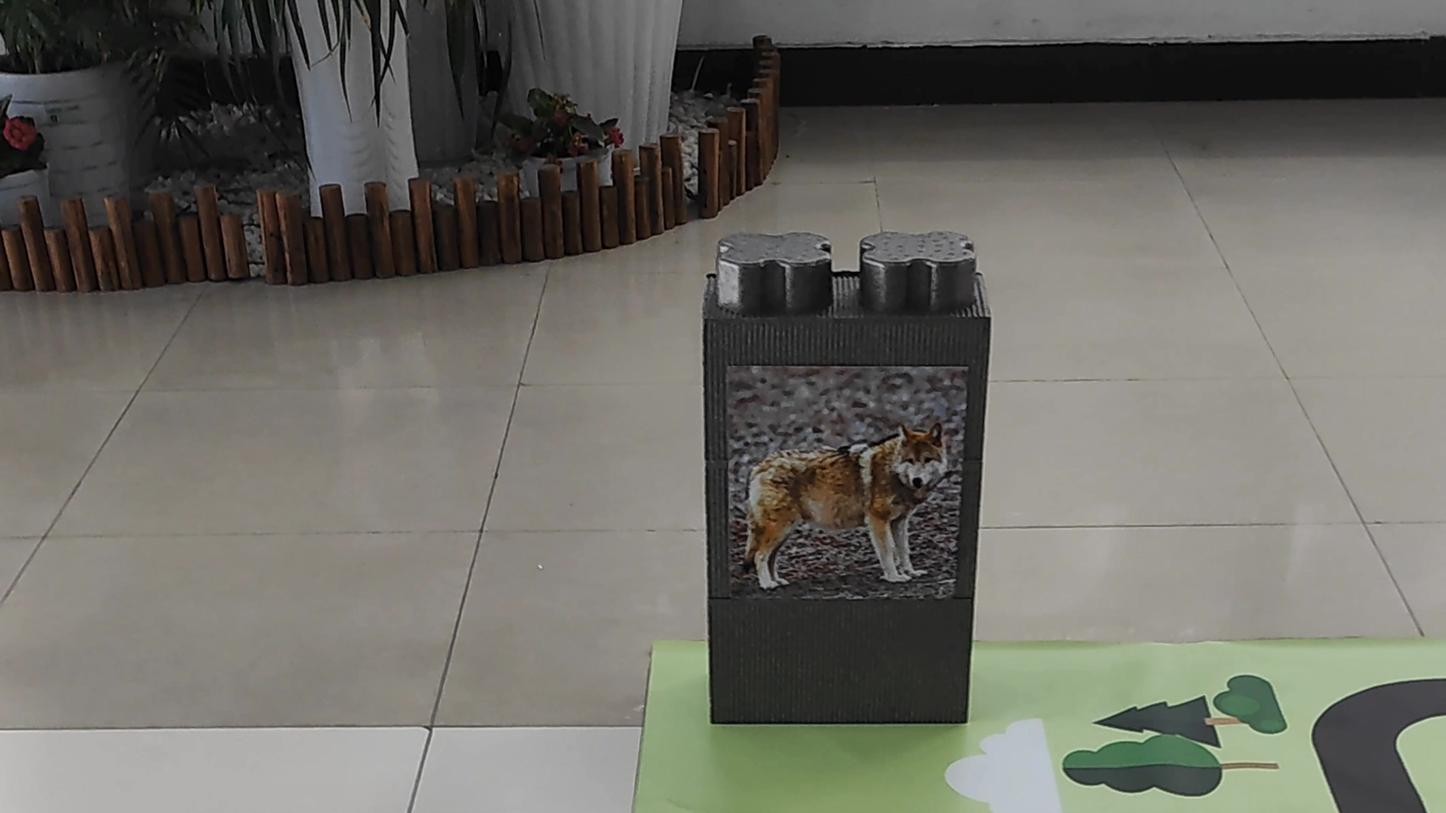wolf: (720, 364, 962, 593)
